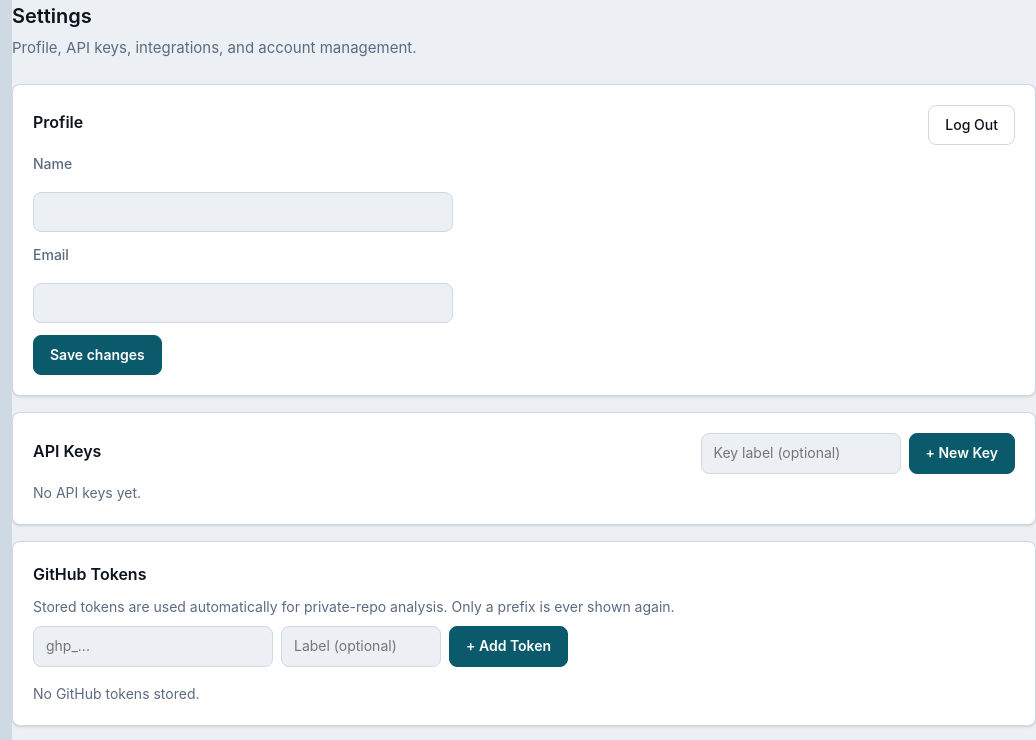
Test: SettingsPage — API keys › creating a key reveals the raw key once
Expected: the heading "API Keys" is shown, [33,439,101,464]
What coordinates should you click on to do the following:
click the button "+ New Key"
I would click on:
 (962, 454)
Its box is [908,433,1015,474].
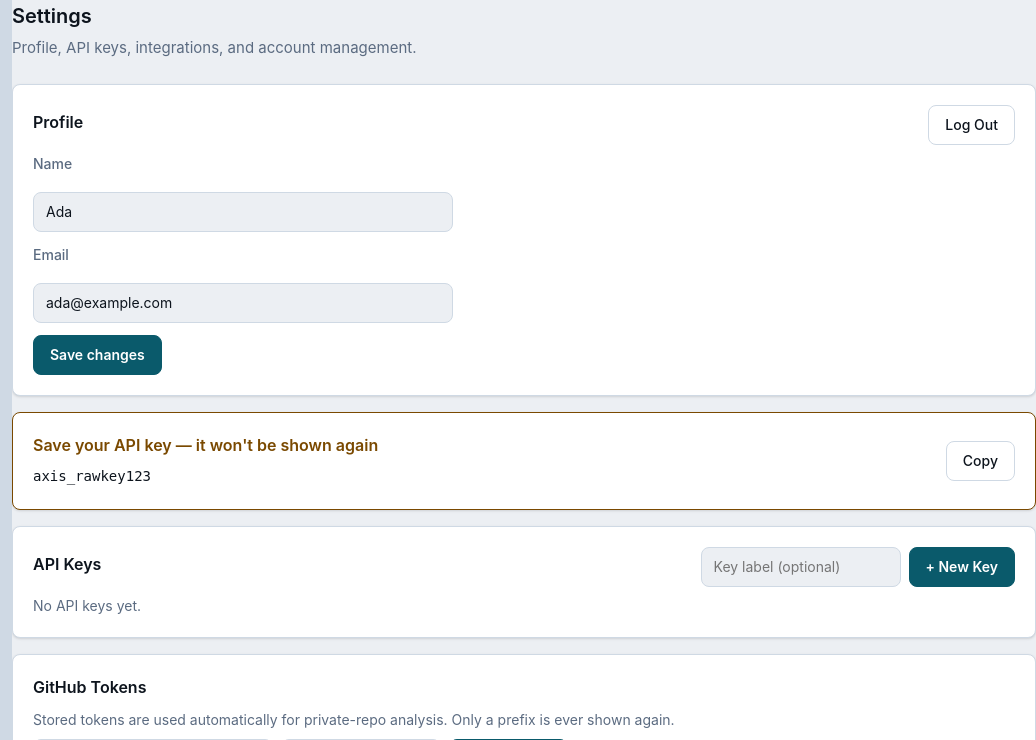
Expected: the text "axis_rawkey123" is shown, [33,468,151,484]
